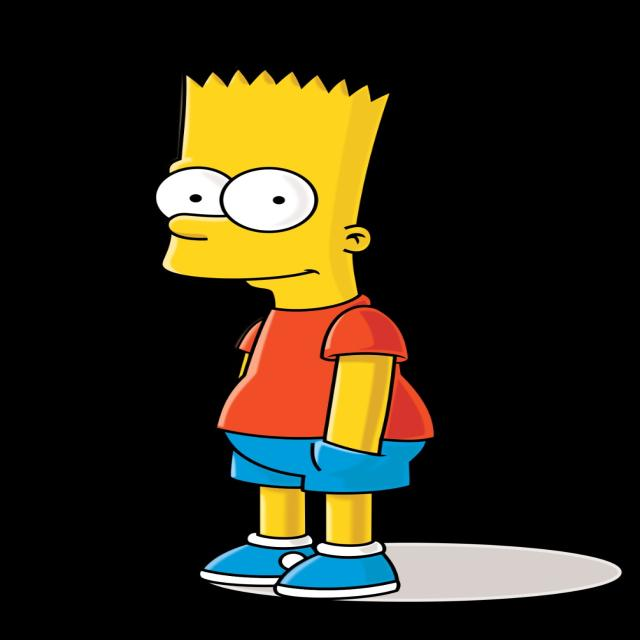Bart Simpson: (152, 69, 396, 316)
